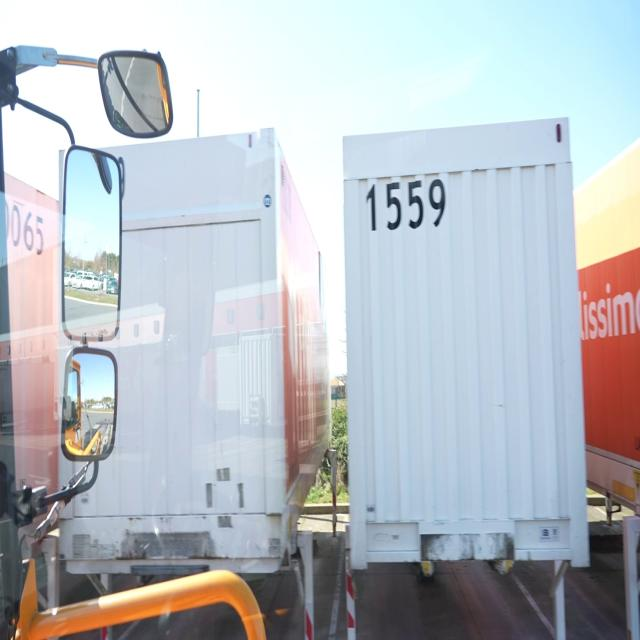Code: (363, 167, 446, 237)
